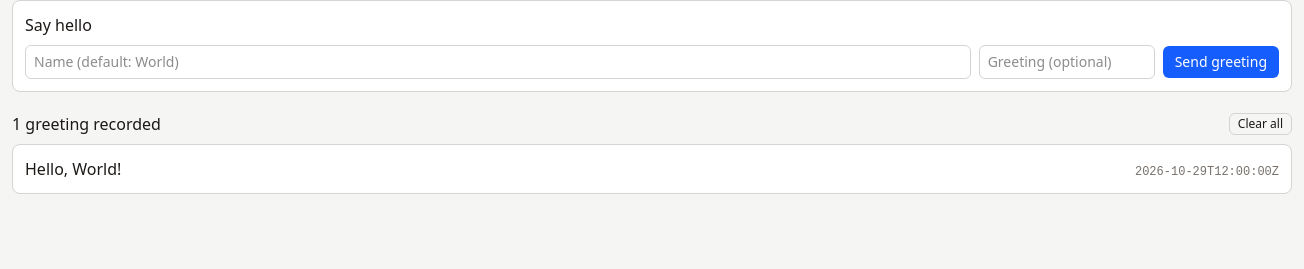
Test case: GreetingPage › lists existing greetings, adds a new greeting, and clears all
Check: the heading "1 greeting recorded" is shown, box [12,112,161,136]
Check: the text "Hello, World!" is shown, box [25,157,121,181]
In the field labelled "Name": [498, 62] box [25,45,971,79], type "Grace"
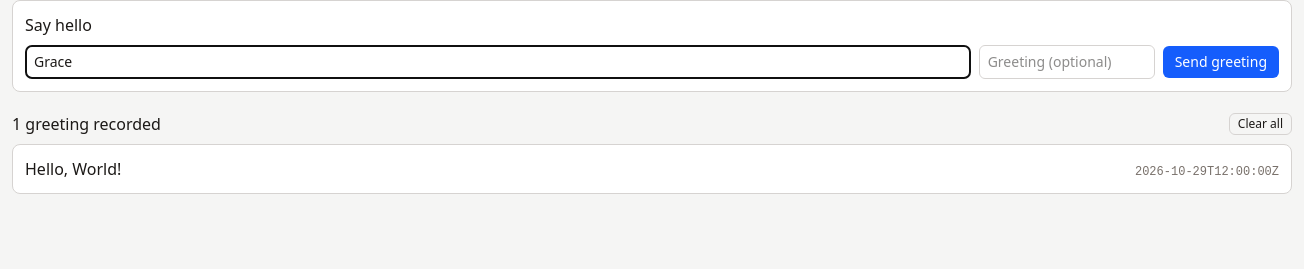
In the field named "Custom greeting": [1067, 62] box [979,45,1155,79], type "Welcome"
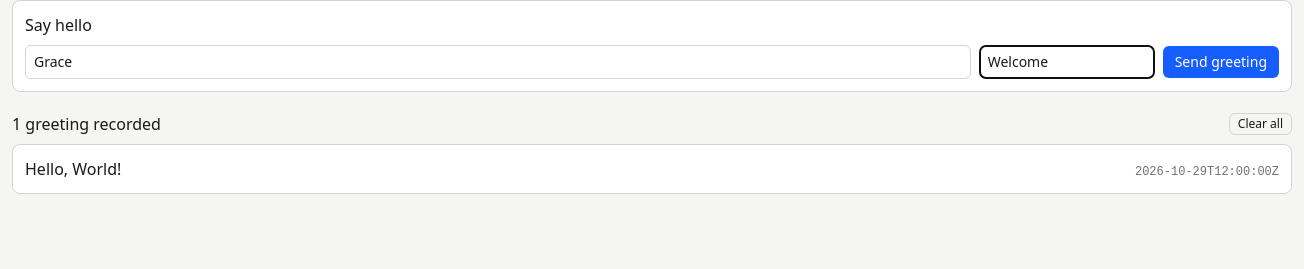
Click the button "Send greeting": [1221, 62] box [1163,46,1279,78]
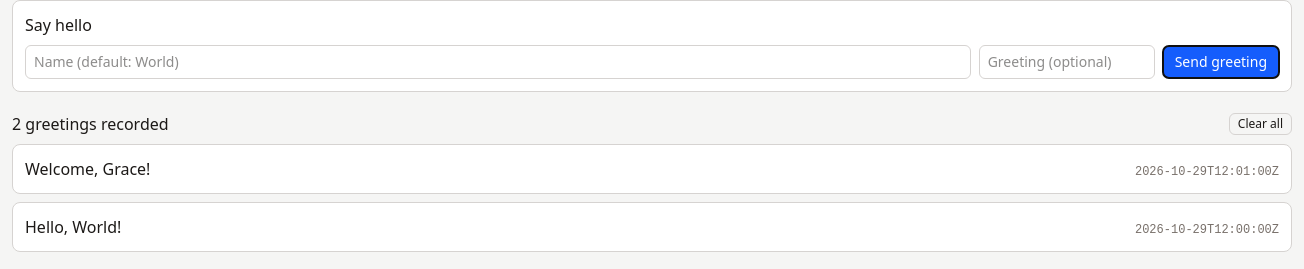
Check: the text "Welcome, Grace!" is shown, box [25,157,150,181]
Check: the heading "2 greetings recorded" is shown, box [12,112,169,136]
Click the button "Clear all": [1260, 124] box [1229,113,1292,135]
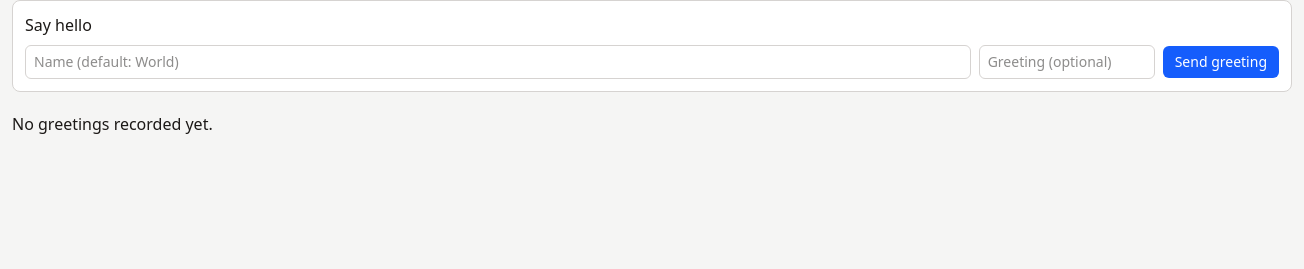
Check: the heading "No greetings recorded yet." is shown, box [12,112,213,136]
